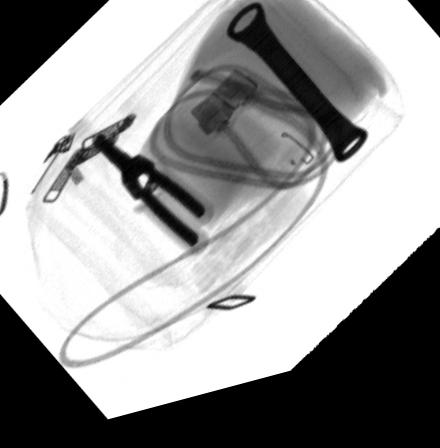Pliers: (92, 136, 204, 256)
Wrench: (223, 15, 371, 182)
